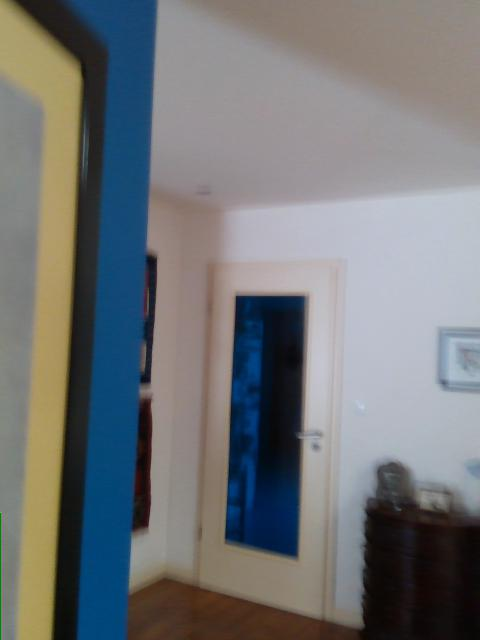door: (195, 260, 345, 622)
